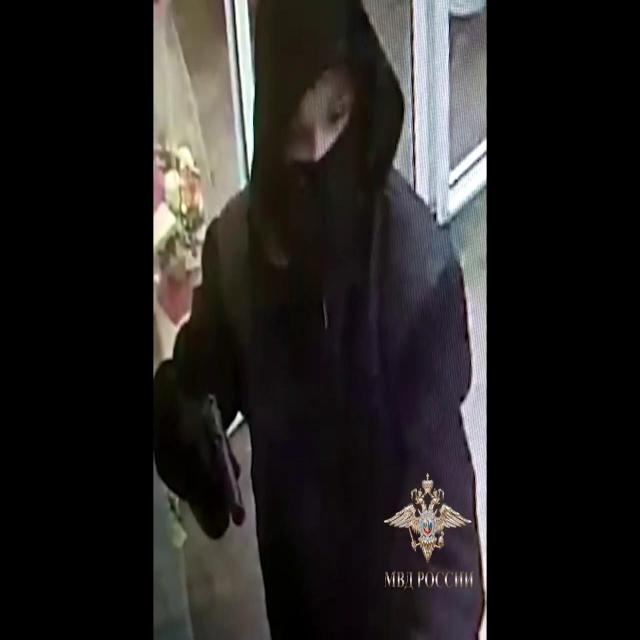gun: (158, 11, 470, 636), (187, 384, 247, 533)
